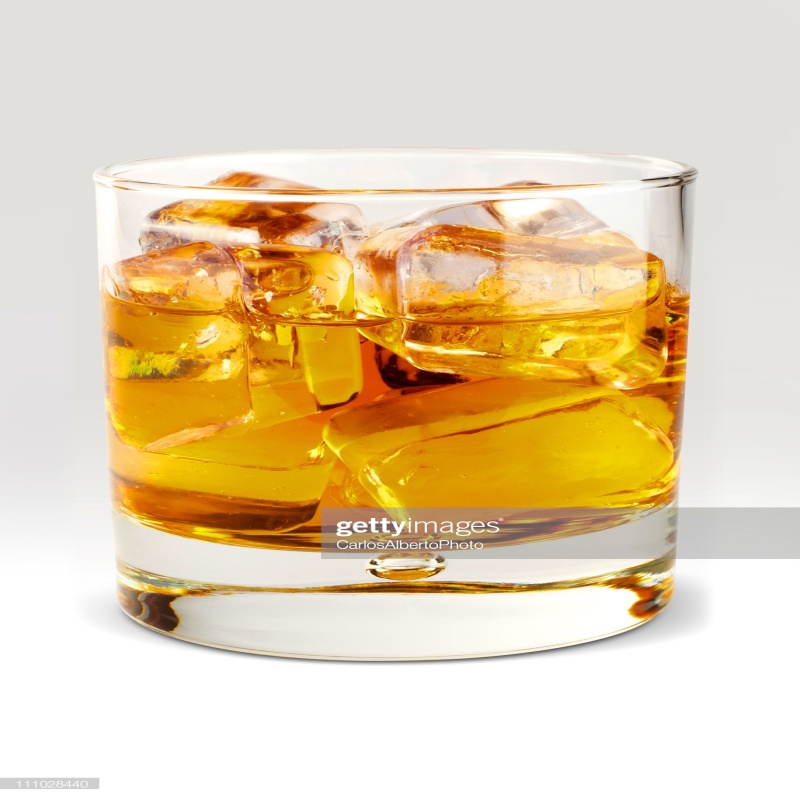whiskey: (83, 148, 694, 643)
